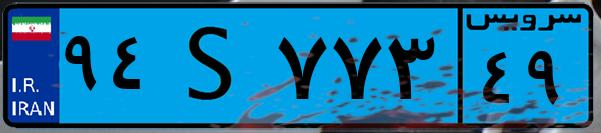3: (385, 28, 445, 110)
4: (475, 38, 525, 113), (110, 28, 158, 98)
7: (270, 28, 330, 110), (330, 28, 385, 110)
9: (57, 26, 110, 100), (525, 38, 570, 115)
S: (158, 12, 270, 120)
